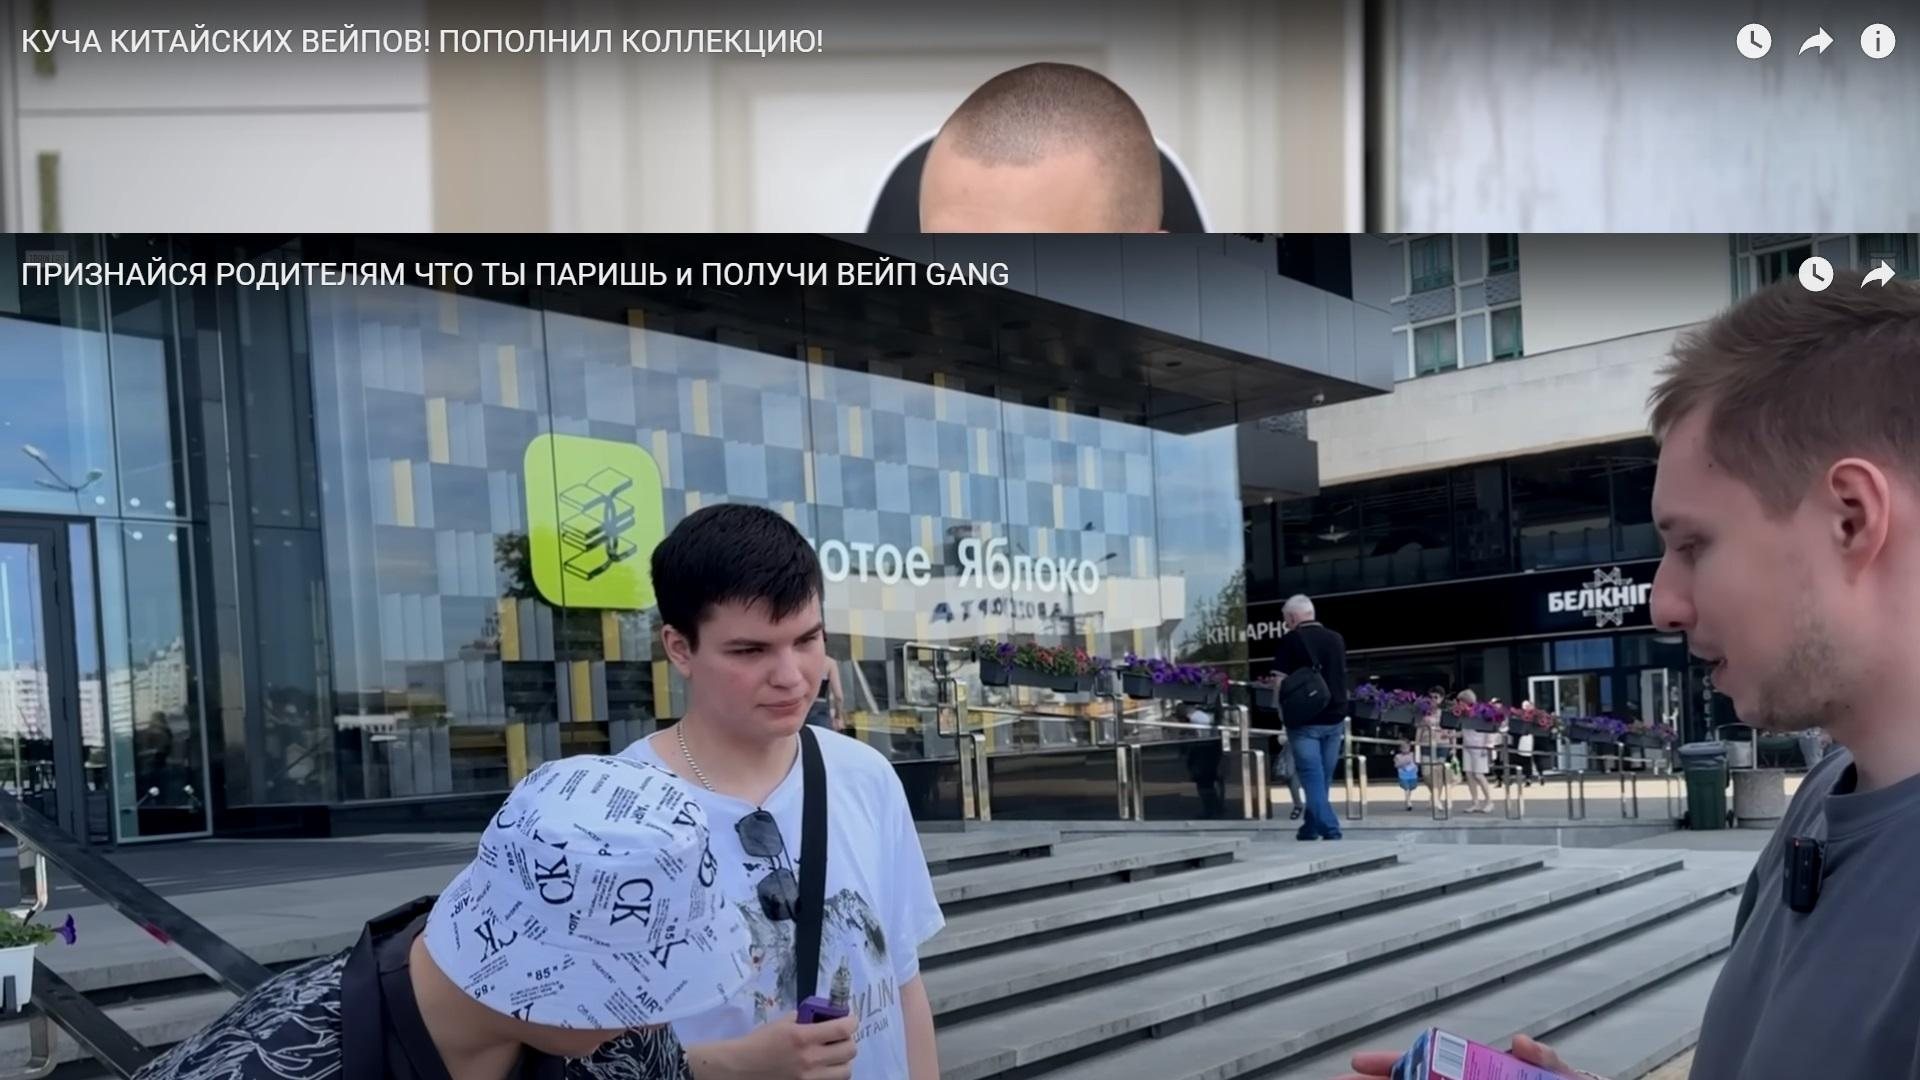Vape: (796, 955, 852, 1023)
